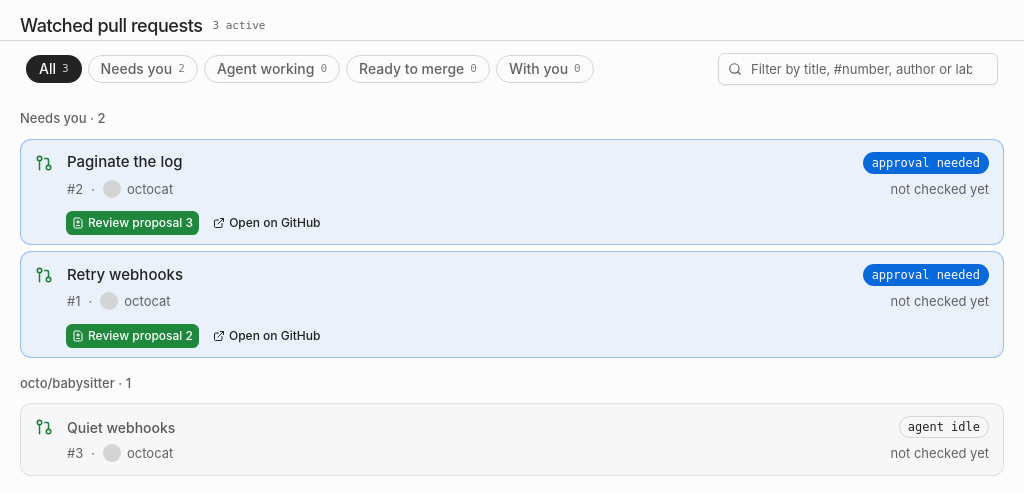
Test: the chip counts follow the search text
Expected: the radio button labelled "Needs you 2" is shown, [88, 55, 198, 83]
Type "webhooks" into the search field.
click(858, 69); type("webhooks")  # box [718, 53, 998, 85]
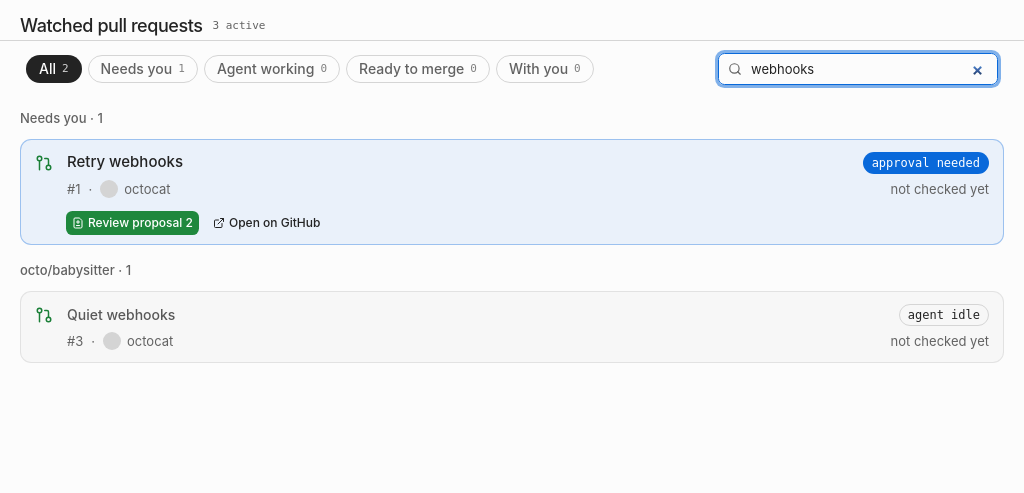
Expected: the radio button labelled "All 2" is checked, [26, 55, 82, 83]
Expected: the radio button labelled "Needs you 1" is shown, [88, 55, 198, 83]
Expected: the element "Needs you · 1" is shown, [20, 105, 1004, 245]
